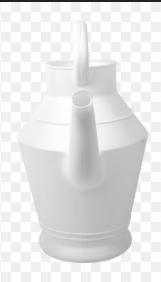ARROSOIR: (15, 4, 153, 271)
